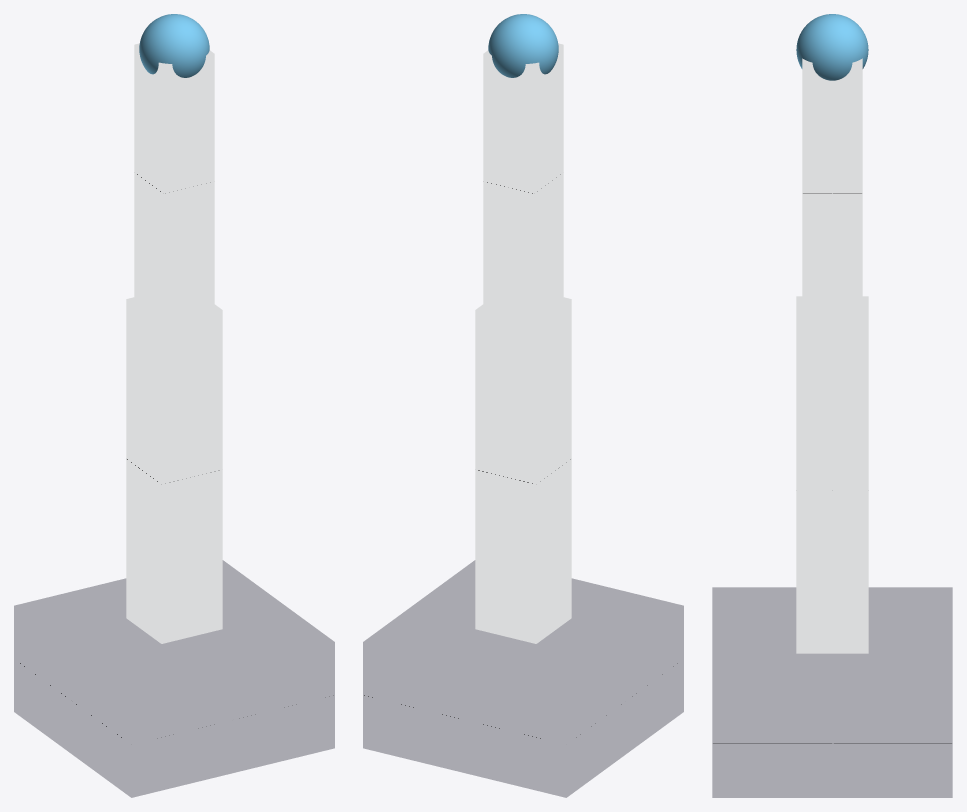
The model's file is robot-arm.glb.
The picture shows the model from 3 angles, left to right: view 1: azimuth 30°, elevation 25°; view 2: azimuth 150°, elevation 25°; view 3: azimuth 270°, elevation 25°; orthographic projection. The views are drawn at different scales.
Parts seen in each view (by area): view 1: Base, Link 1, Link 2, End Effector; view 2: Base, Link 1, Link 2, End Effector; view 3: Base, Link 1, Link 2, End Effector.
Boxes of the visible parts, bbox=[...] form: Base: bbox=[14, 560, 334, 797]; Link 1: bbox=[126, 297, 222, 643]; Link 2: bbox=[134, 43, 214, 321]; End Effector: bbox=[139, 14, 209, 77]; Base: bbox=[363, 560, 683, 797]; Link 1: bbox=[475, 297, 571, 643]; Link 2: bbox=[483, 43, 563, 321]; End Effector: bbox=[488, 14, 558, 77]; Base: bbox=[712, 587, 952, 797]; Link 1: bbox=[796, 296, 868, 653]; Link 2: bbox=[802, 58, 862, 323]; End Effector: bbox=[796, 14, 868, 80].
Size of the model in its own units: 100 by 335 by 100.
